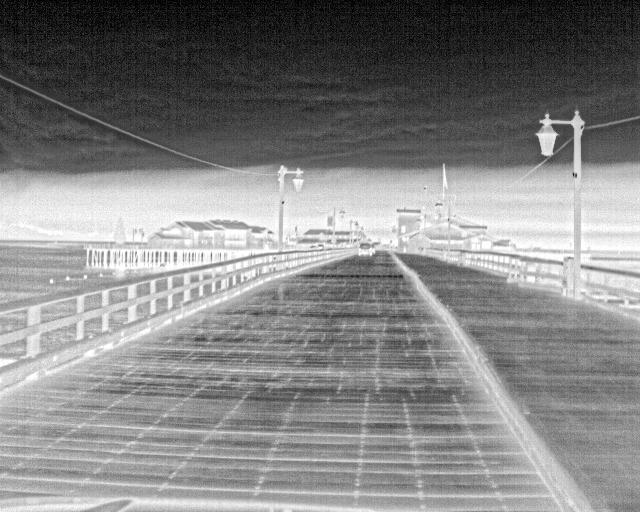car: (354, 241, 374, 255)
